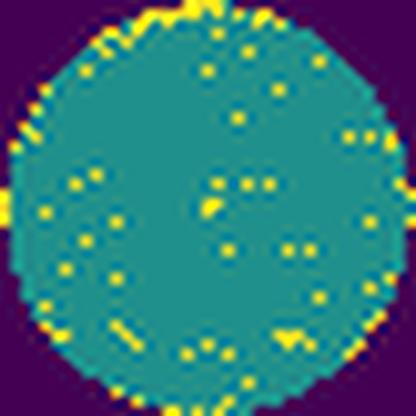Edge-Loc: (91, 0, 230, 65)
